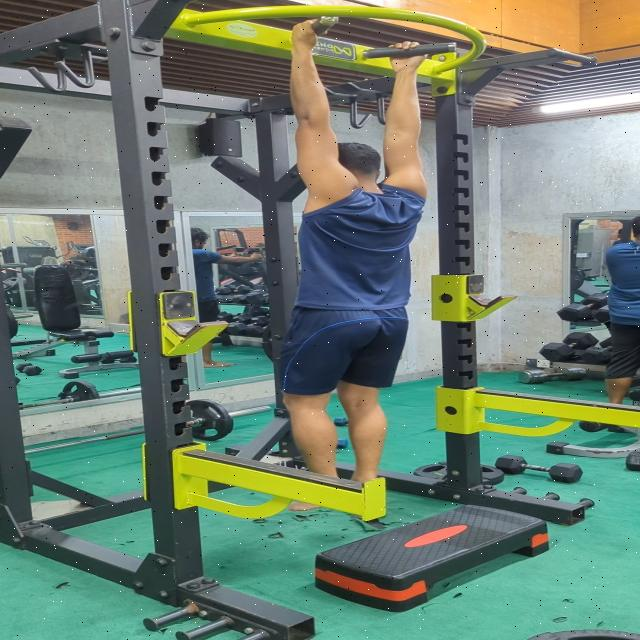Normal_PullUps: (260, 15, 433, 517)
